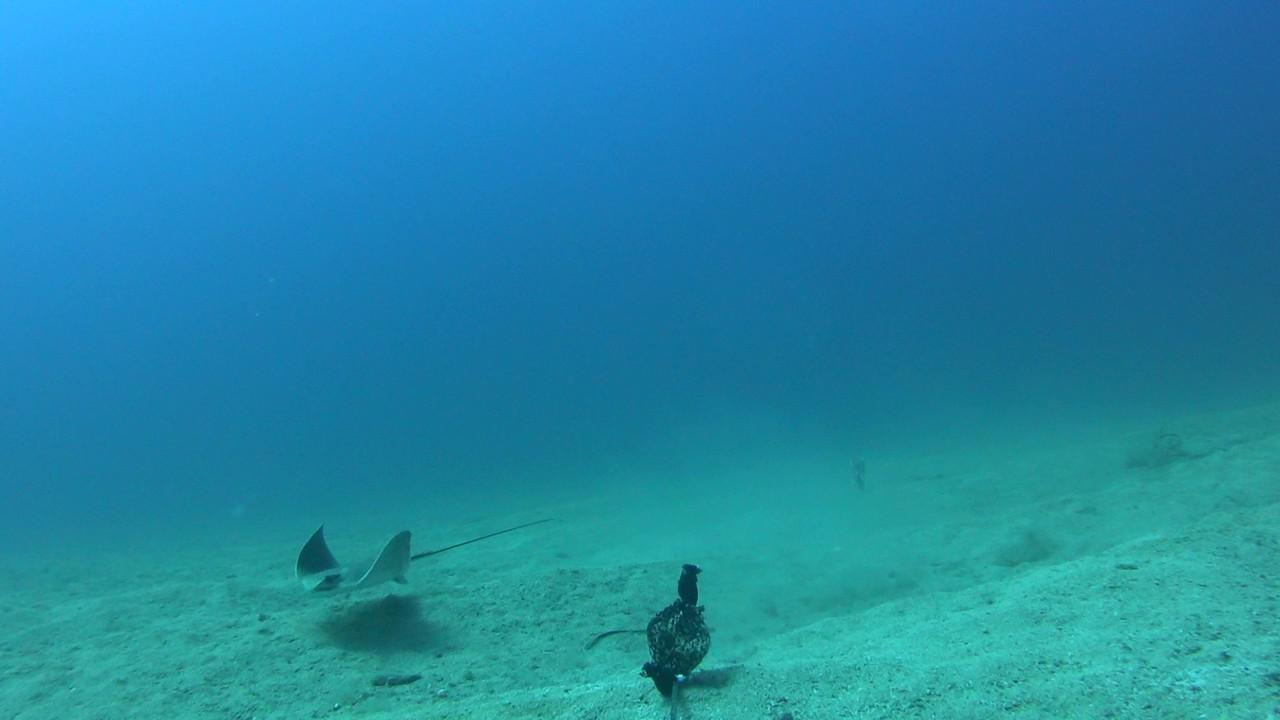myliobatis: (288, 501, 568, 605)
